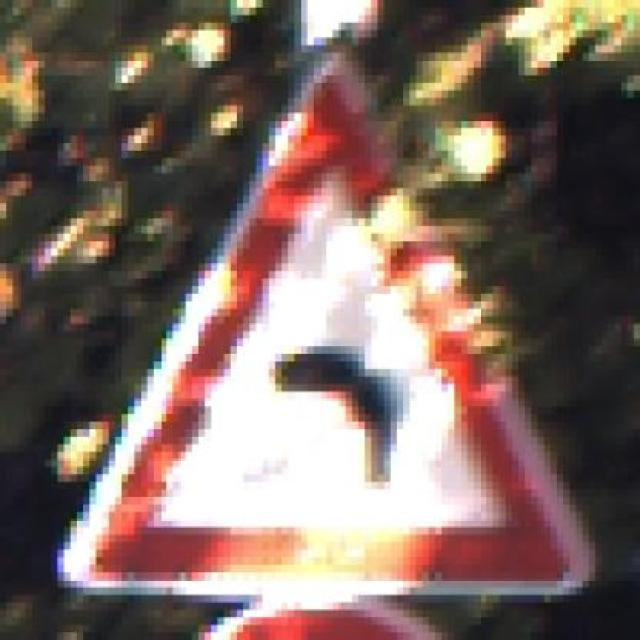Dangerous Left Curve Ahead: (57, 60, 595, 603)
